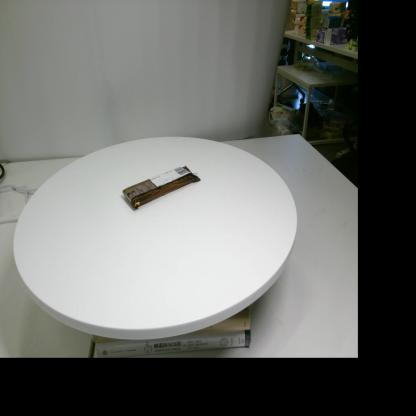Chocolate: (122, 166, 201, 209)
